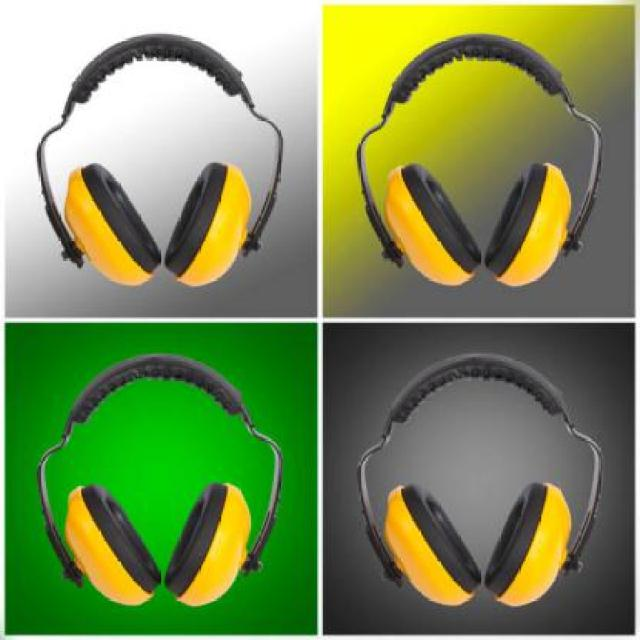Ear-protection: (30, 358, 308, 614), (353, 347, 606, 602), (357, 35, 600, 288), (37, 39, 293, 274)
